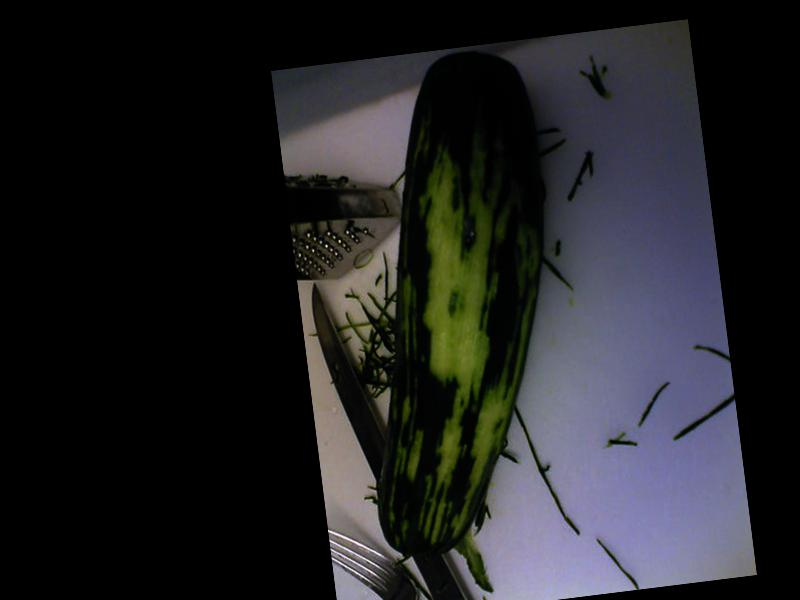Cucumber: (322, 44, 587, 564)
